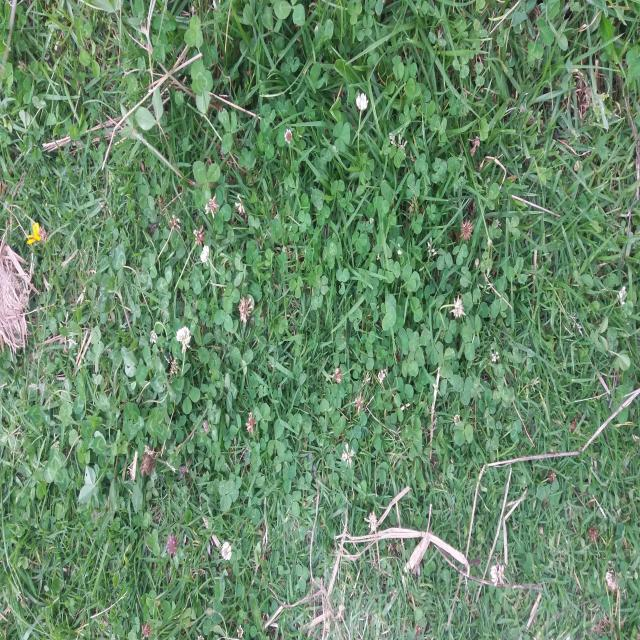Four Leaf Clover: (218, 479, 239, 510), (381, 294, 396, 330), (401, 264, 420, 292), (438, 347, 455, 378), (405, 414, 422, 441)
